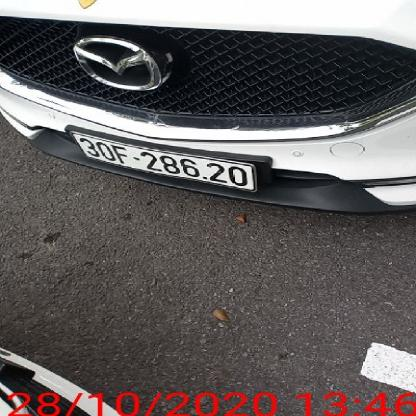biensoxe: (73, 129, 266, 192)
